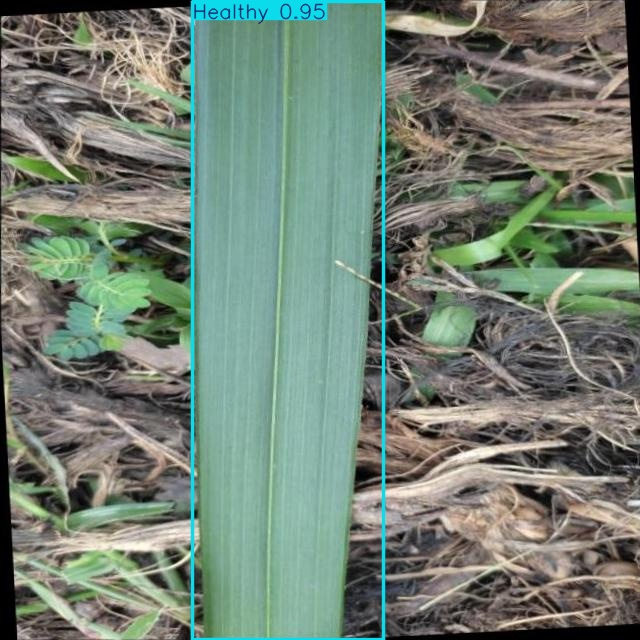Healthy: (193, 2, 383, 639)
